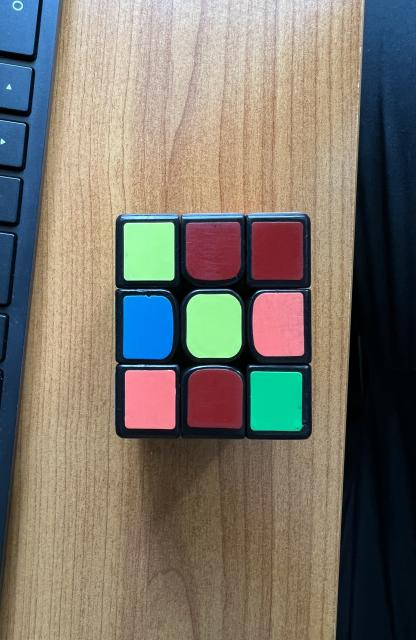Blue: (124, 295, 173, 360)
Green: (250, 371, 302, 431)
Orange: (252, 292, 304, 356), (125, 370, 176, 430)
Red: (187, 369, 243, 429), (185, 222, 240, 281), (251, 221, 303, 280)
Yellow: (186, 294, 242, 359), (124, 222, 174, 281)
